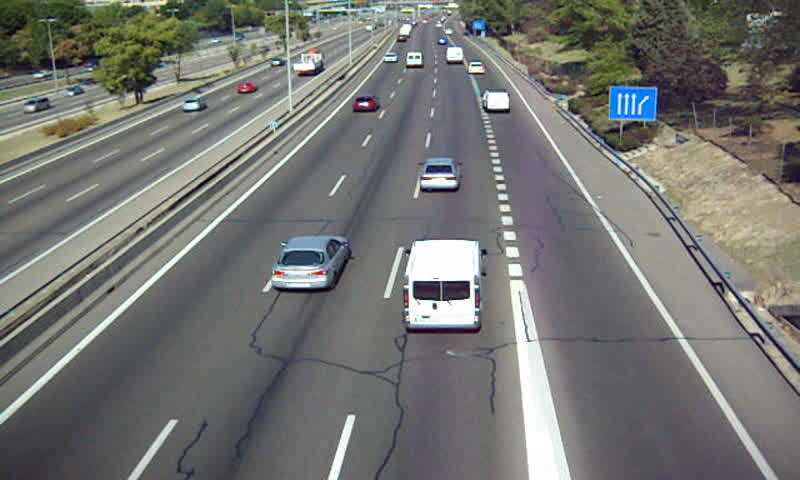car: (269, 234, 348, 293), (418, 158, 461, 192), (352, 95, 380, 111), (468, 61, 486, 75)
van: (405, 239, 483, 329), (481, 90, 510, 112), (444, 46, 464, 63), (404, 51, 423, 68)
